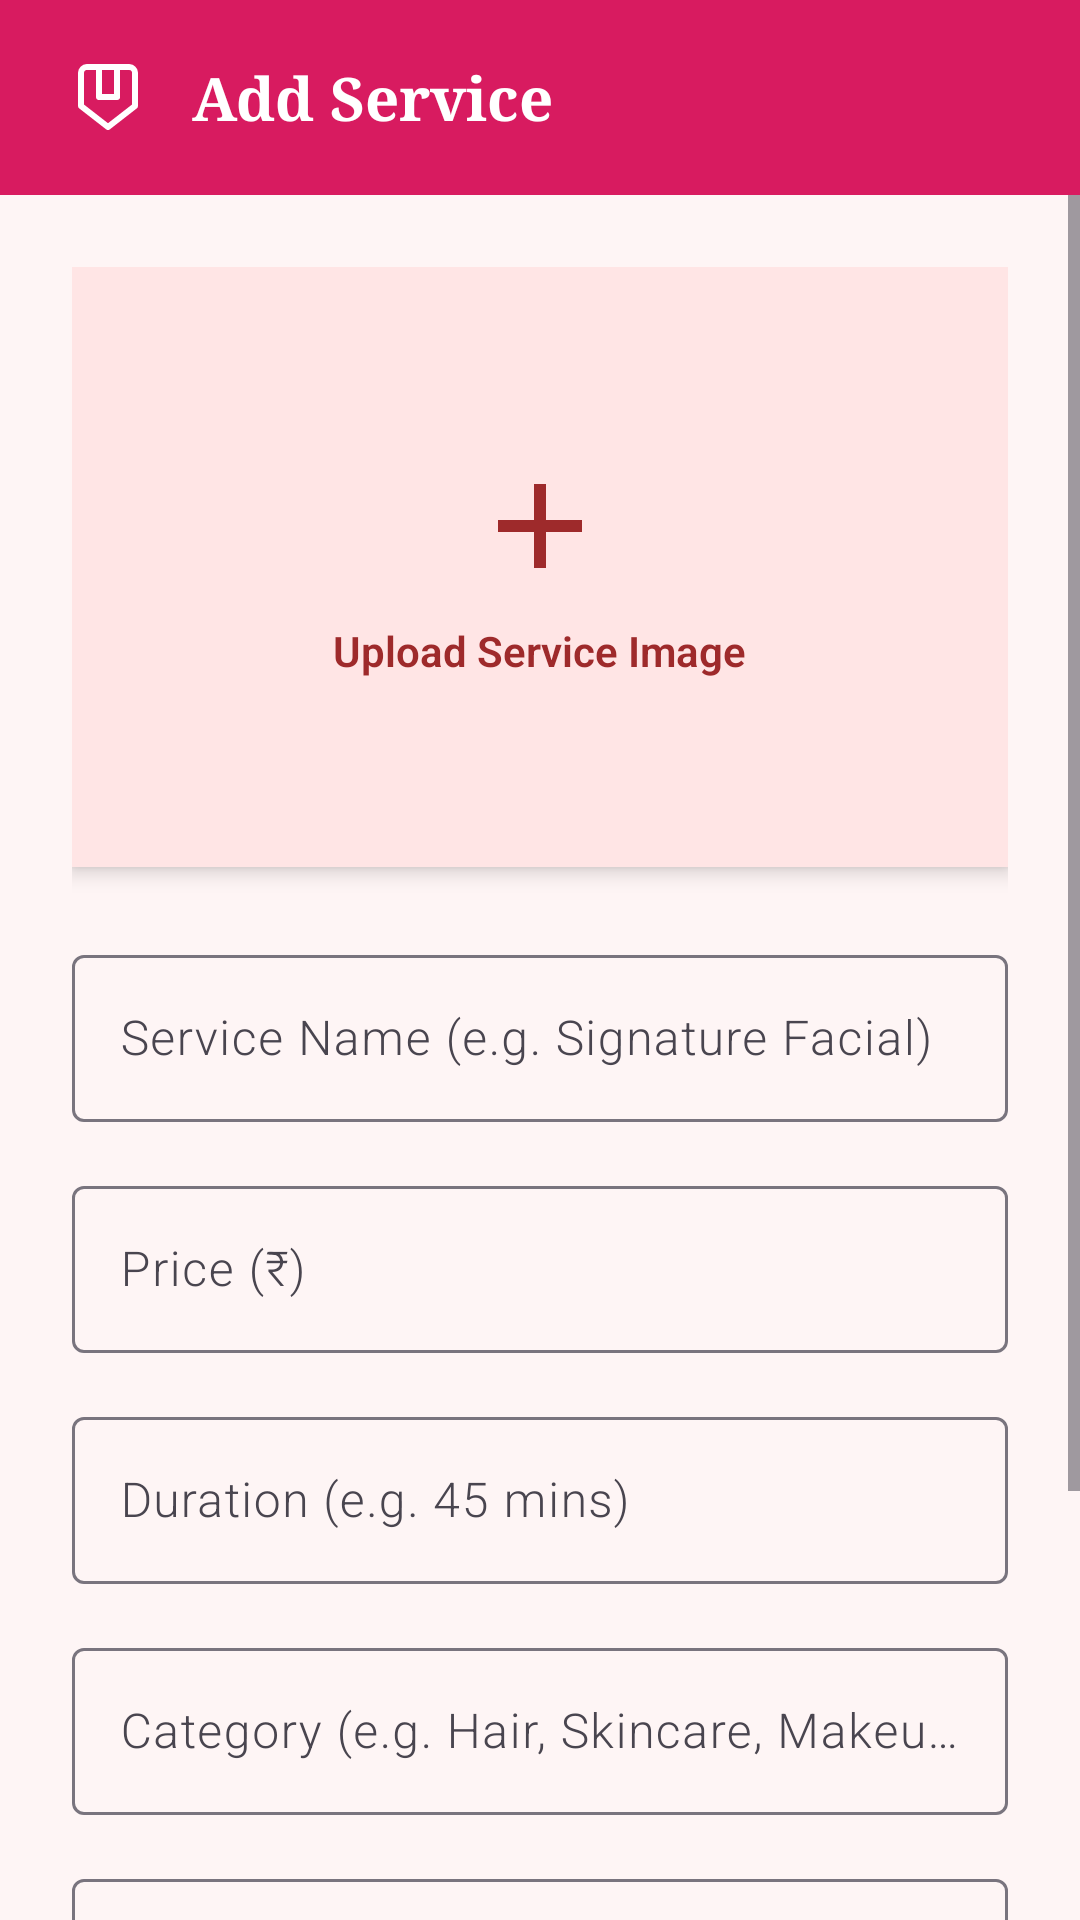

Icons on this 1080 × 1920 Android screen, each with its box as box=[x1, y1, x2, y2]:
add gold: box=[498, 484, 582, 568]
